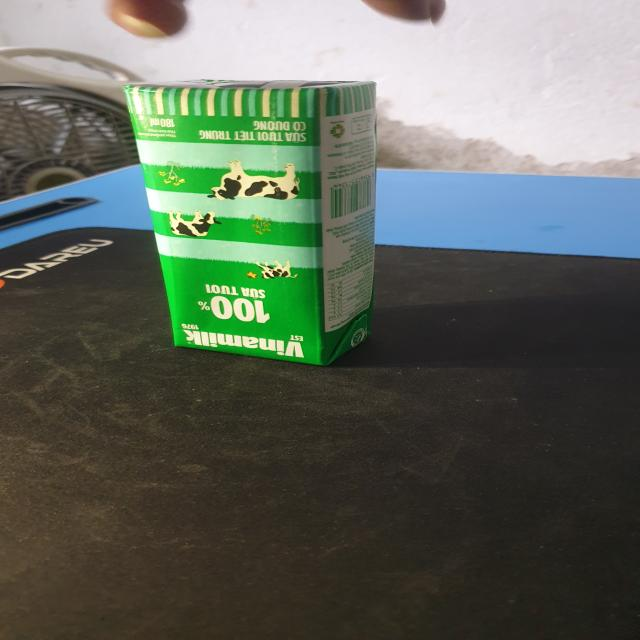Vina: (134, 79, 385, 368)
